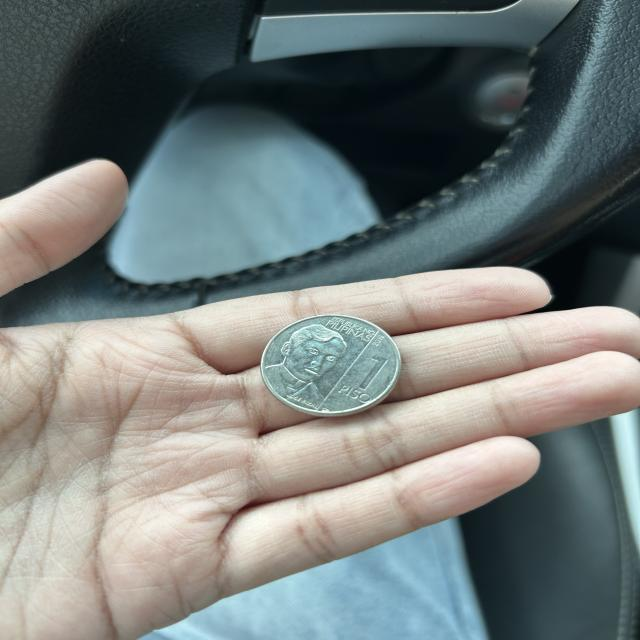1_New_Front: (337, 346, 382, 411)
